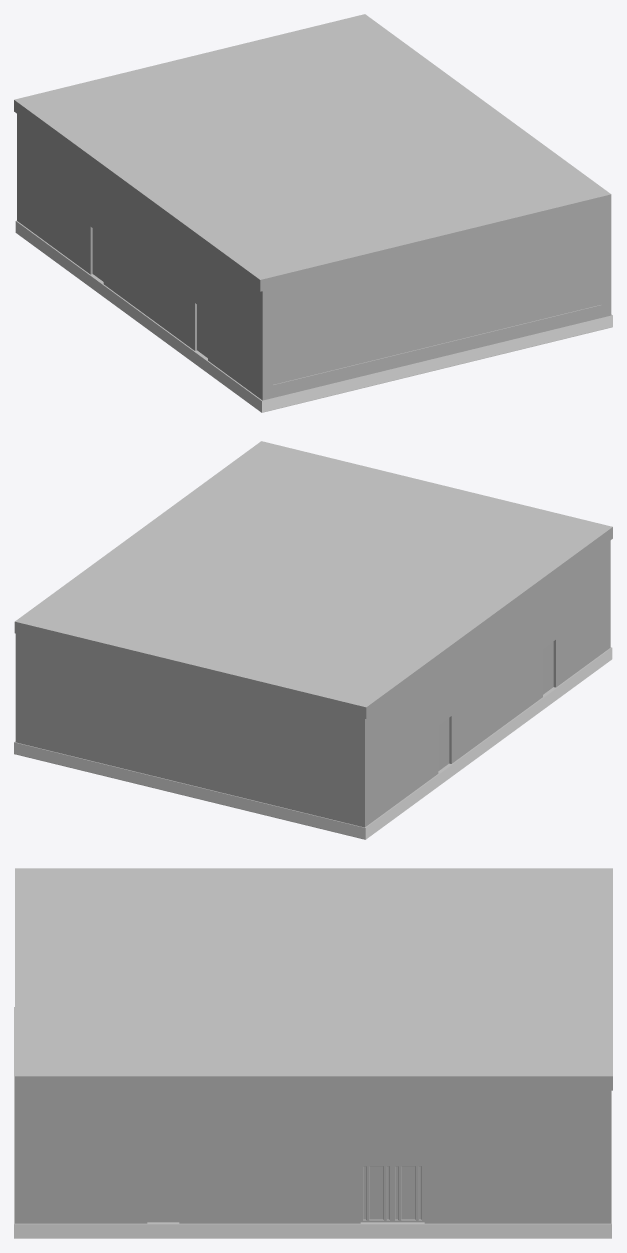
Rendered from tribunal.fbx.
3 views of the same model, one above another, from view 1: azimuth 30°, elevation 25°; view 2: azimuth 150°, elevation 25°; view 3: azimuth 270°, elevation 25° (orthographic). The views are drawn at different scales.
Parts seen in each view (by area): view 1: roof, wall, floor, doors; view 2: roof, wall, floor, doors; view 3: roof, wall, floor, doors.
Boxes of the visible parts, left/top/right/bottom form: roof: left=14, top=14, right=611, bottom=291; wall: left=17, top=114, right=611, bottom=400; floor: left=15, top=220, right=612, bottom=412; doors: left=92, top=228, right=207, bottom=357; roof: left=14, top=441, right=612, bottom=718; wall: left=15, top=540, right=610, bottom=827; floor: left=14, top=647, right=612, bottom=839; doors: left=438, top=641, right=553, bottom=770; roof: left=15, top=868, right=612, bottom=1090; wall: left=15, top=1090, right=610, bottom=1223; floor: left=14, top=1007, right=611, bottom=1238; doors: left=147, top=1165, right=424, bottom=1222.
Size of the model in its own units: 1394 by 503 by 1691.
